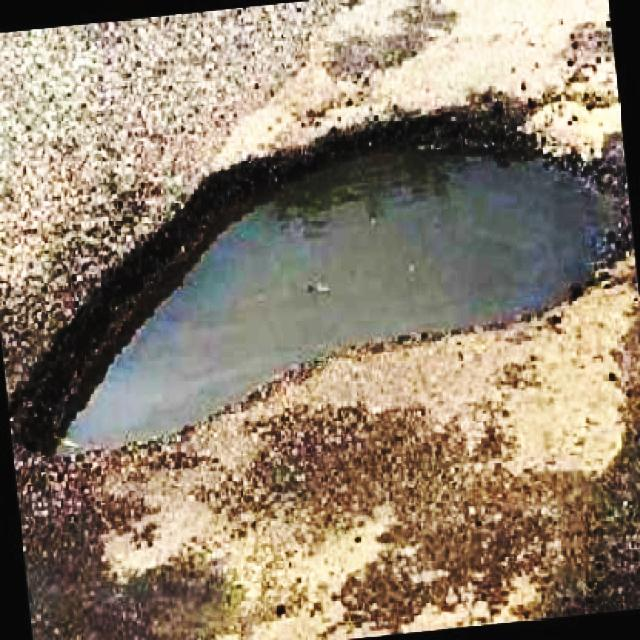pothole: (9, 81, 640, 472)
